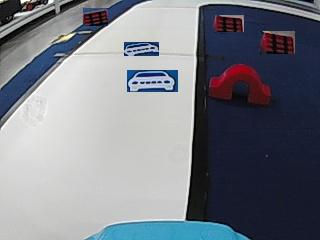bridge: (209, 64, 271, 103)
